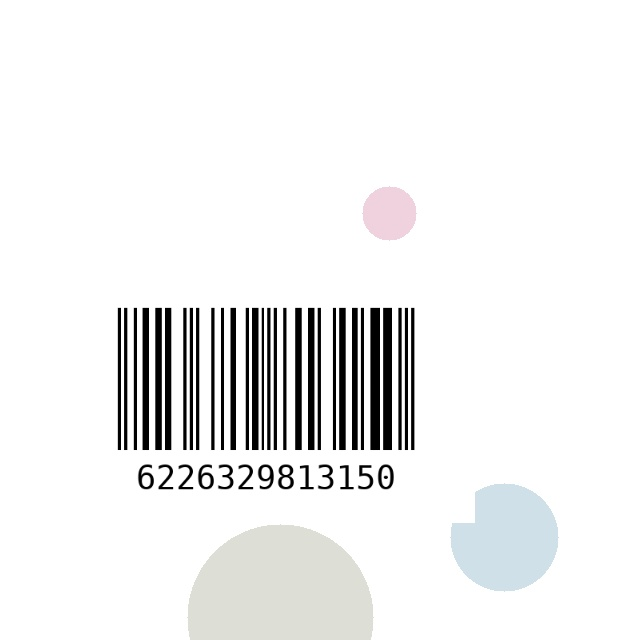barcode: (57, 299, 475, 523)
